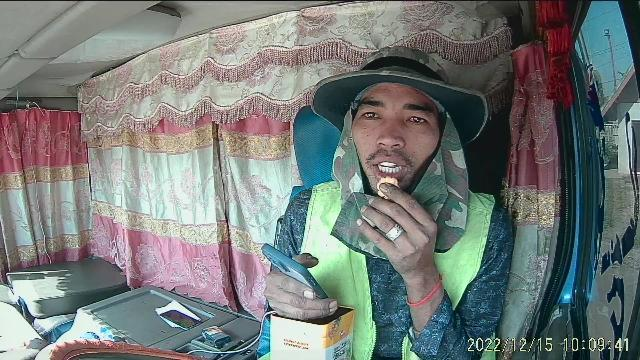PhoneUse: (260, 242, 330, 302), (157, 306, 201, 332)
SafeDriving: (355, 103, 388, 124), (401, 108, 434, 128)
